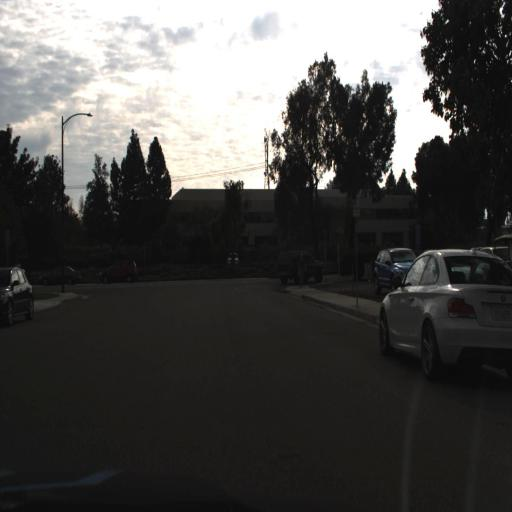car: (378, 248, 511, 389), (372, 244, 420, 298), (0, 264, 36, 329), (276, 250, 329, 290), (95, 253, 137, 288), (38, 261, 83, 288), (223, 247, 242, 273)
